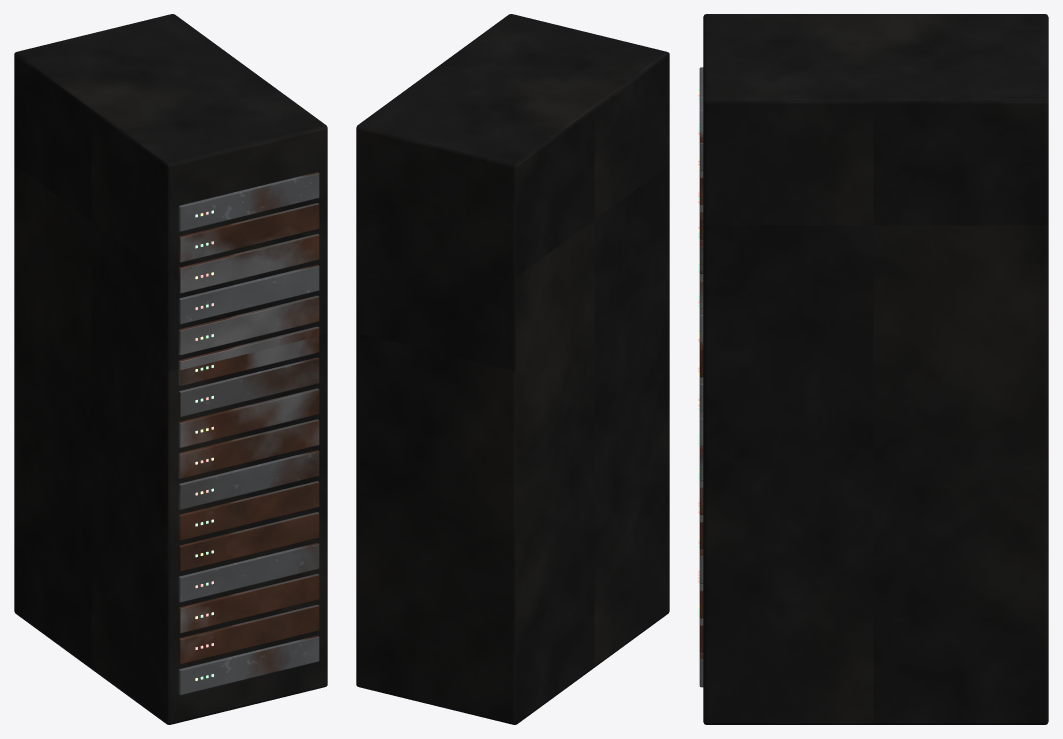
Rendered from Y06_server_rack_v1.glb.
3 renders of one model, left to right at view 1: azimuth 30°, elevation 25°; view 2: azimuth 150°, elevation 25°; view 3: azimuth 270°, elevation 25°, orthographic. The views are drawn at different scales.
Parts seen in each view (by area): view 1: Y06_server_rack_v1; view 2: Y06_server_rack_v1; view 3: Y06_server_rack_v1.
Part boxes in pixels (x1=…): Y06_server_rack_v1: x1=14, y1=14, x2=327, y2=724; Y06_server_rack_v1: x1=356, y1=14, x2=669, y2=724; Y06_server_rack_v1: x1=698, y1=14, x2=1048, y2=724.
Bounding box in the file's own units: 0.6 × 2 × 1.01.
Materials: 7 (7 with a texture image).
